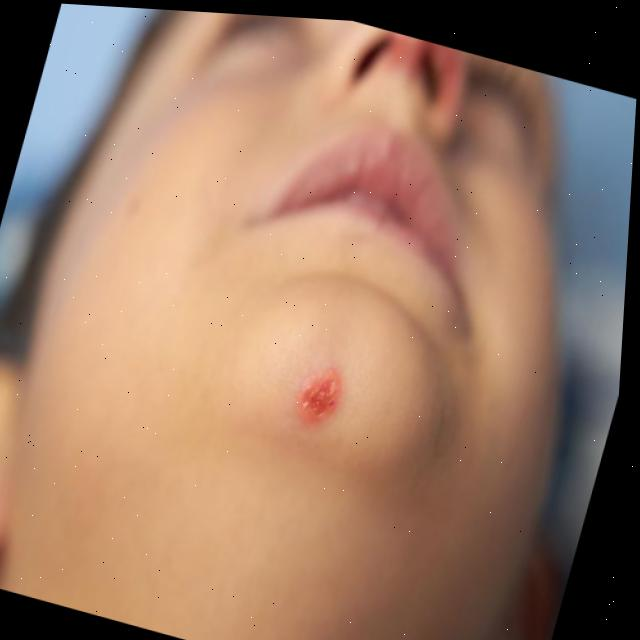Eczema: (294, 364, 348, 428)
